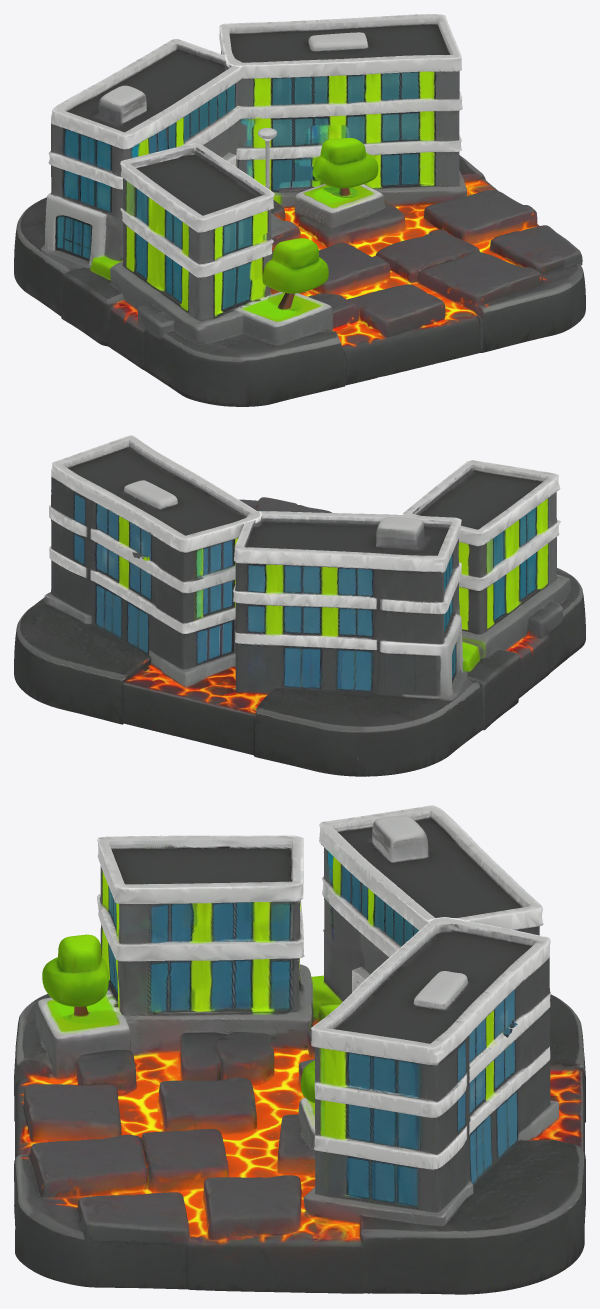
File: project1.glb
3 views of the same model, one above another, from view 1: azimuth 30°, elevation 25°; view 2: azimuth 150°, elevation 25°; view 3: azimuth 270°, elevation 25° (orthographic). The views are drawn at different scales.
Visible parts, largest first — view 1: Mesh_0; view 2: Mesh_0; view 3: Mesh_0.
Part boxes in pixels (box(x1,y1,x2,y2)): Mesh_0: box(14, 14, 585, 406); Mesh_0: box(14, 435, 585, 776); Mesh_0: box(14, 805, 585, 1294).
Bounding box in the file's own units: 22.23 × 10 × 20.49.
1 material, 1 textured.
